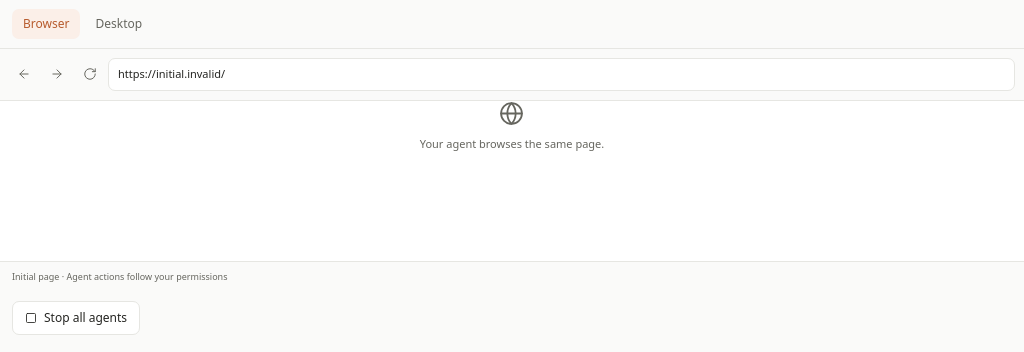
Test: browser address request ownership › preserves a newer unsent edit after blur, late navigation, and later native status
The image size is (1024, 352).
Replace the text in the field named "Agent browser address" with "submitted.invalid". click: (562, 74)
box: [108,58,1015,90]
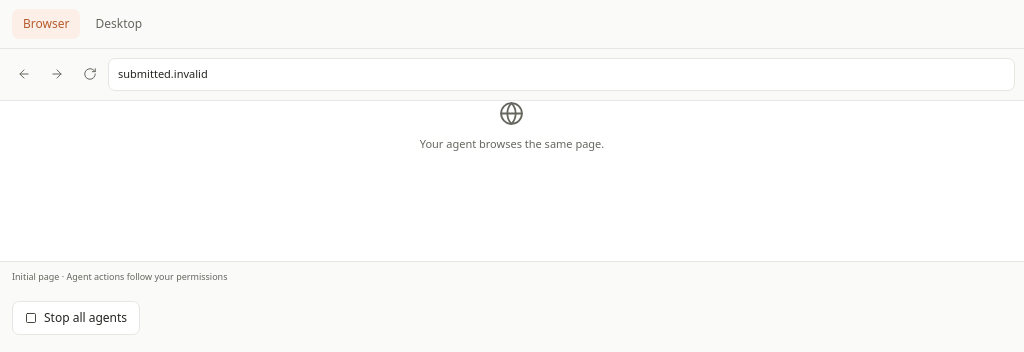
Submit the form named "Agent browser address", box [108,58,1015,90]
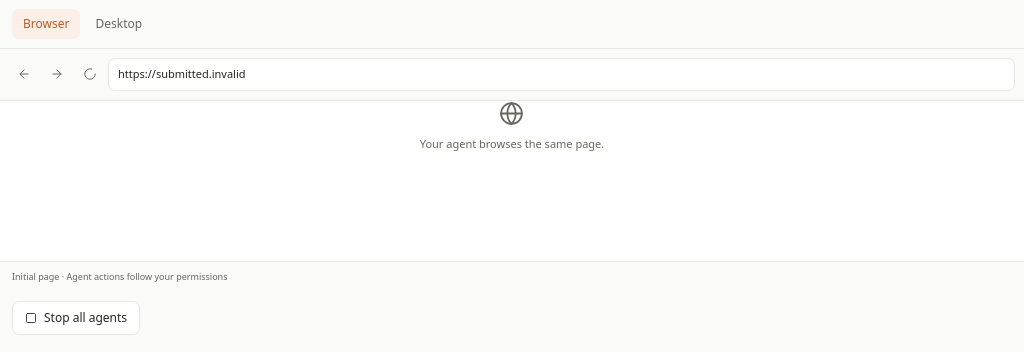
Replace the text in the field named "Agent browser address" with "later.invalid/unsent". click: (562, 74)
box: [108,58,1015,90]
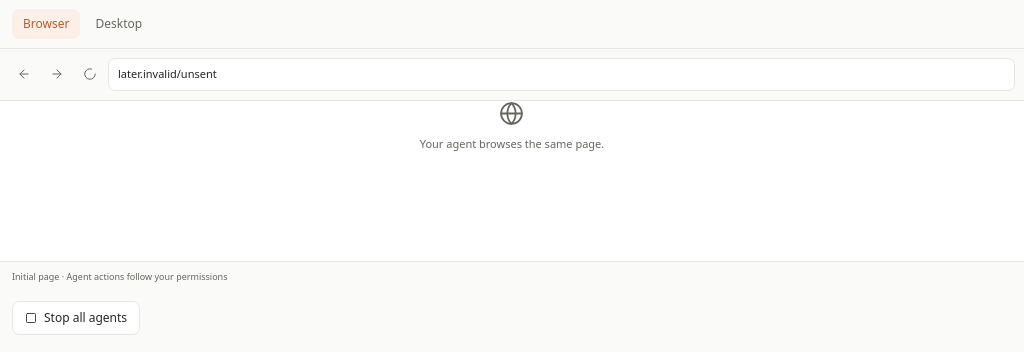
Leave the field named "Agent browser address", box [108,58,1015,90]
Wait 1500 ms
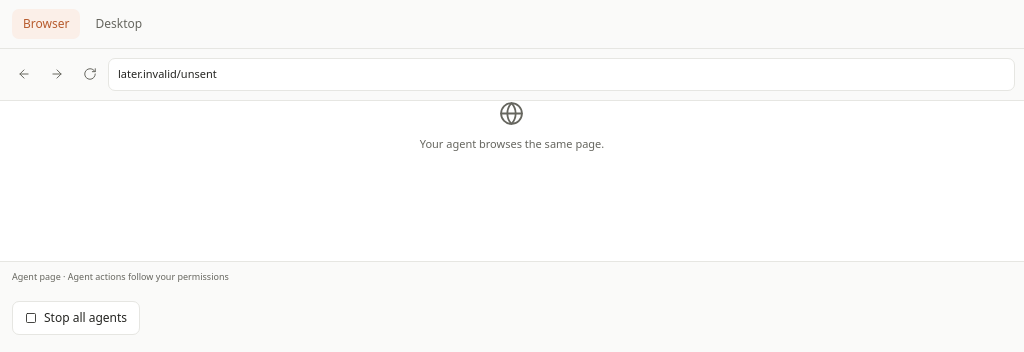
Result: the text "Agent page · Agent actions follow your permissions" is shown at [0,260,1023,291]
Submit the form named "Agent browser address", box [108,58,1015,90]
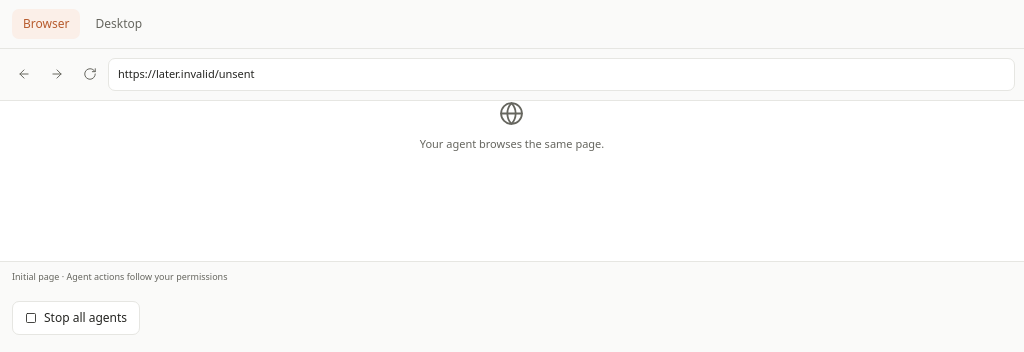
Result: the field named "Agent browser address" holds "https://later.invalid/unsent" at [108,58,1015,90]
